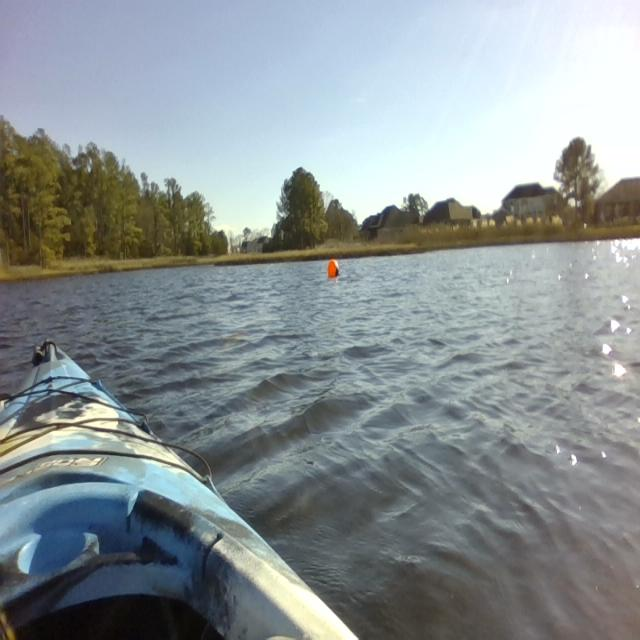Buoy: (324, 249, 346, 294)
